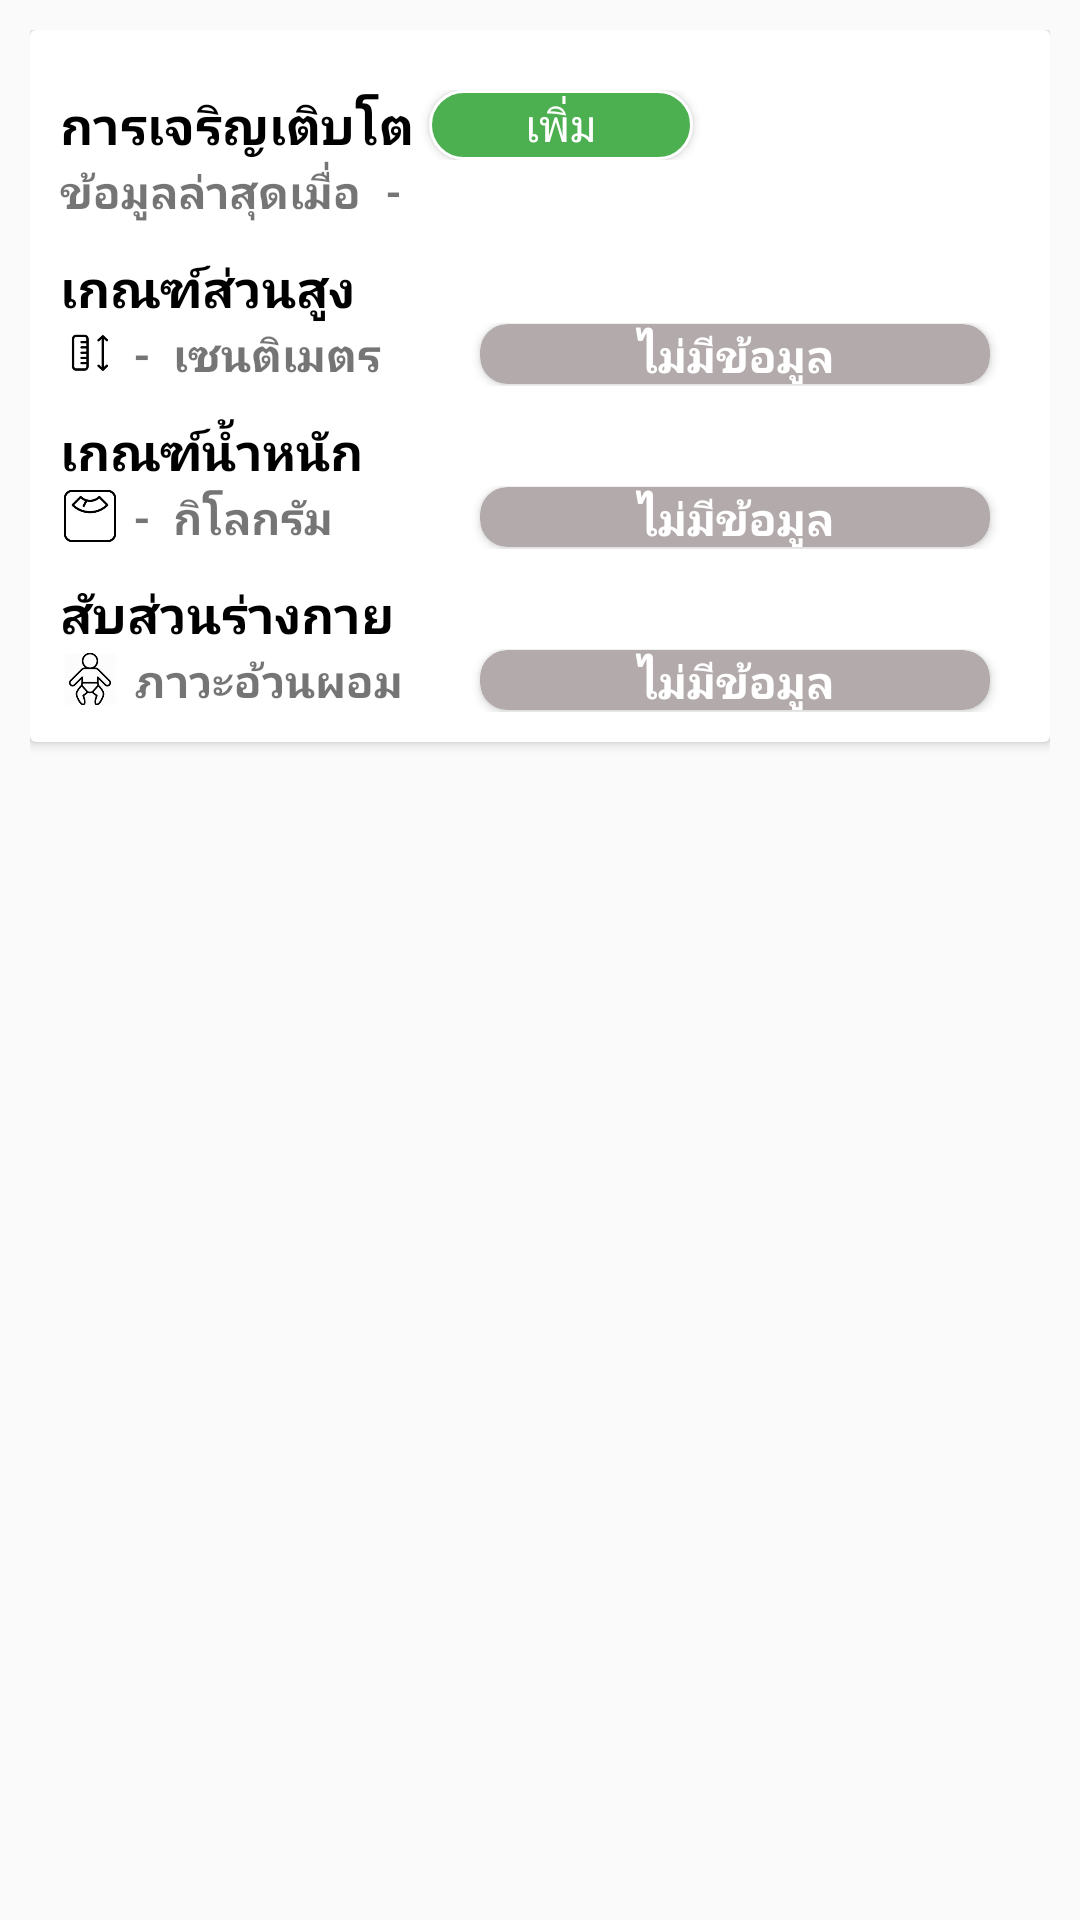

Locate icon controls on the screen. Image size 1080×1920, boxes as (x1,y1,x2,y2).
baby body: (69,653,111,705)
height: (72,334,108,371)
weight: (64,490,116,542)
